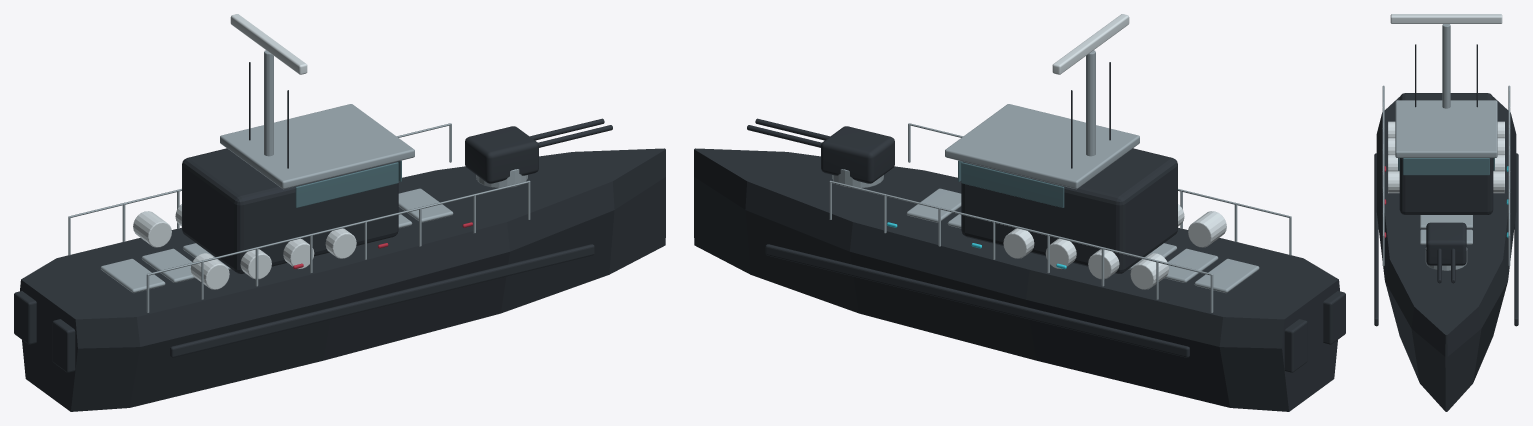
File: PirateInterceptor.fbx
The picture shows the model from 3 angles, left to right: view 1: azimuth 30°, elevation 25°; view 2: azimuth 150°, elevation 25°; view 3: azimuth 270°, elevation 25°; orthographic projection. The views are drawn at different scales.
Parts seen in each view (by area): view 1: Chined seaworthy hull, Bridge roof, Gun shield, Liferaft canister, Bridge panoramic glazing, Radar array, Mast; view 2: Chined seaworthy hull, Bridge roof, Gun shield, Liferaft canister, Bridge panoramic glazing, Radar array, Mast; view 3: Chined seaworthy hull, Bridge roof, Gun shield, Bridge panoramic glazing, Liferaft canister, Radar array, Mast, Whip antenna, Turret ring.
Part boxes in pixels (x1=…): Chined seaworthy hull: x1=14, y1=148, x2=665, y2=411; Bridge roof: x1=68, y1=104, x2=530, y2=312; Gun shield: x1=465, y1=118, x2=612, y2=183; Liferaft canister: x1=133, y1=204, x2=356, y2=289; Bridge panoramic glazing: x1=295, y1=160, x2=401, y2=207; Radar array: x1=230, y1=14, x2=307, y2=74; Mast: x1=264, y1=50, x2=273, y2=156; Chined seaworthy hull: x1=694, y1=148, x2=1345, y2=411; Bridge roof: x1=829, y1=104, x2=1291, y2=312; Gun shield: x1=747, y1=118, x2=894, y2=183; Liferaft canister: x1=1003, y1=204, x2=1226, y2=289; Bridge panoramic glazing: x1=958, y1=160, x2=1064, y2=207; Radar array: x1=1052, y1=14, x2=1129, y2=74; Mast: x1=1086, y1=50, x2=1095, y2=156; Chined seaworthy hull: x1=1374, y1=93, x2=1518, y2=411; Bridge roof: x1=1382, y1=85, x2=1510, y2=266; Gun shield: x1=1426, y1=222, x2=1466, y2=283; Bridge panoramic glazing: x1=1398, y1=158, x2=1494, y2=175; Liferaft canister: x1=1388, y1=121, x2=1504, y2=193; Radar array: x1=1390, y1=14, x2=1502, y2=23; Mast: x1=1442, y1=24, x2=1450, y2=108; Whip antenna: x1=1415, y1=44, x2=1477, y2=107; Turret ring: x1=1425, y1=247, x2=1467, y2=270.
Size of the model in its own units: 1860 by 859 by 464.
